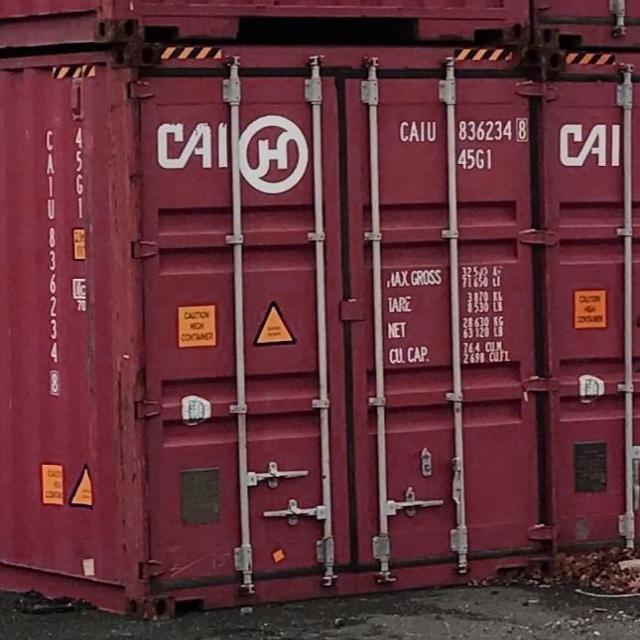ISO: (454, 148, 500, 168)
container_number: (396, 113, 529, 141)
